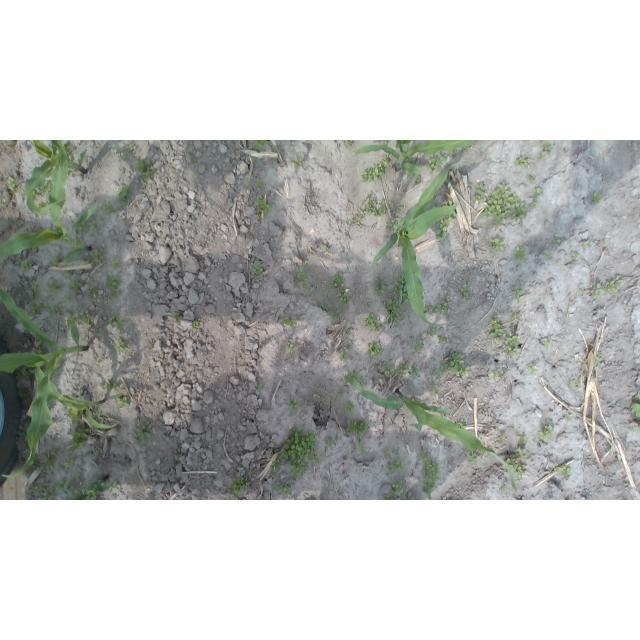Maize: (345, 375, 517, 490), (0, 290, 88, 479), (373, 161, 470, 327), (1, 141, 96, 268), (23, 140, 86, 216), (353, 140, 477, 172), (47, 387, 119, 430), (71, 472, 118, 500)
Weeds: (282, 426, 325, 478), (481, 185, 528, 226), (417, 450, 442, 500), (444, 351, 473, 378), (362, 160, 392, 182), (67, 423, 90, 451), (503, 458, 528, 479), (386, 297, 405, 324), (436, 216, 455, 243), (343, 419, 369, 438), (427, 151, 448, 174), (252, 196, 273, 219), (393, 275, 410, 303), (488, 315, 505, 342), (381, 481, 404, 500), (134, 159, 153, 181), (231, 477, 249, 498), (33, 179, 54, 196), (65, 477, 80, 500), (537, 425, 555, 443), (632, 392, 640, 432), (336, 287, 351, 308), (117, 185, 131, 207), (107, 314, 125, 331), (134, 426, 152, 443), (363, 314, 381, 331), (100, 199, 119, 215), (373, 277, 388, 297), (530, 188, 544, 209), (328, 272, 345, 289), (39, 449, 55, 467), (387, 460, 406, 475), (67, 408, 84, 424), (63, 140, 76, 160), (114, 391, 129, 408), (366, 342, 383, 357), (538, 140, 556, 154), (511, 285, 525, 303), (474, 182, 486, 202), (589, 284, 605, 299), (396, 362, 410, 379), (386, 216, 400, 233), (17, 365, 35, 378), (513, 247, 526, 265), (48, 278, 62, 294), (35, 201, 51, 215), (280, 316, 297, 329), (275, 482, 292, 495), (554, 464, 571, 477), (434, 301, 449, 315), (105, 276, 121, 289), (539, 334, 552, 350), (114, 338, 128, 352), (355, 439, 369, 453), (75, 218, 89, 232), (70, 279, 83, 294), (103, 378, 118, 391), (409, 365, 422, 380), (490, 238, 505, 251), (31, 303, 47, 315), (66, 312, 78, 328), (364, 199, 376, 215), (6, 176, 18, 192), (251, 140, 270, 150), (90, 218, 103, 232), (80, 310, 92, 325), (413, 339, 425, 354), (567, 377, 582, 389), (92, 249, 104, 264), (341, 373, 357, 384), (467, 453, 483, 464), (430, 367, 443, 380), (506, 333, 519, 346), (606, 281, 619, 294), (50, 303, 62, 317), (343, 401, 355, 415), (514, 156, 529, 167), (271, 457, 282, 472), (251, 264, 264, 276), (107, 289, 122, 299), (460, 284, 470, 299), (30, 280, 42, 292), (86, 285, 98, 297), (20, 259, 33, 270), (35, 346, 48, 357), (303, 283, 314, 296), (591, 193, 604, 204), (374, 207, 387, 218), (424, 326, 438, 336), (593, 353, 603, 367), (50, 255, 62, 266), (423, 303, 434, 315), (289, 400, 300, 412), (114, 143, 126, 154), (17, 389, 30, 399), (384, 364, 395, 375), (455, 419, 466, 430), (515, 447, 526, 458), (62, 457, 74, 467), (330, 310, 342, 320), (506, 346, 518, 356), (325, 436, 335, 448), (41, 492, 54, 501), (285, 344, 298, 353), (111, 258, 122, 268), (450, 147, 460, 158), (542, 249, 553, 259), (35, 484, 47, 493), (297, 268, 306, 280), (492, 371, 504, 380), (172, 312, 182, 322), (412, 176, 422, 186), (255, 383, 265, 393), (529, 365, 540, 374), (56, 481, 65, 491), (316, 395, 326, 404), (340, 350, 348, 361), (66, 295, 75, 304), (497, 435, 506, 444), (432, 385, 441, 394), (509, 312, 518, 321), (29, 292, 39, 300), (615, 275, 623, 285), (343, 141, 354, 148), (192, 320, 200, 329), (384, 152, 393, 160), (357, 211, 365, 220), (294, 158, 302, 167), (572, 252, 580, 261), (128, 146, 136, 155), (439, 334, 446, 344), (359, 377, 366, 387), (431, 203, 442, 209), (465, 447, 476, 453), (22, 187, 27, 200), (320, 303, 328, 311), (256, 179, 264, 187), (393, 449, 401, 457), (581, 241, 589, 249), (529, 176, 536, 185), (500, 486, 509, 493), (84, 496, 96, 501), (99, 447, 106, 455), (538, 153, 546, 160), (406, 170, 414, 177), (444, 200, 452, 207), (385, 449, 392, 457), (6, 141, 14, 148), (66, 168, 73, 176), (364, 300, 370, 309), (555, 238, 564, 244), (407, 160, 417, 165), (451, 211, 458, 218), (324, 245, 331, 252), (519, 437, 526, 444), (463, 146, 471, 152), (380, 140, 388, 146), (348, 219, 356, 225), (27, 489, 33, 496), (398, 206, 405, 212), (579, 286, 586, 292), (356, 222, 362, 228), (333, 394, 340, 399), (599, 240, 607, 244), (67, 272, 73, 277), (148, 342, 153, 348), (371, 224, 377, 229), (97, 359, 103, 364), (266, 455, 272, 460), (509, 427, 515, 432), (565, 414, 571, 419), (408, 497, 417, 500), (367, 193, 372, 198), (524, 141, 531, 144), (345, 328, 349, 333), (380, 201, 384, 205)
